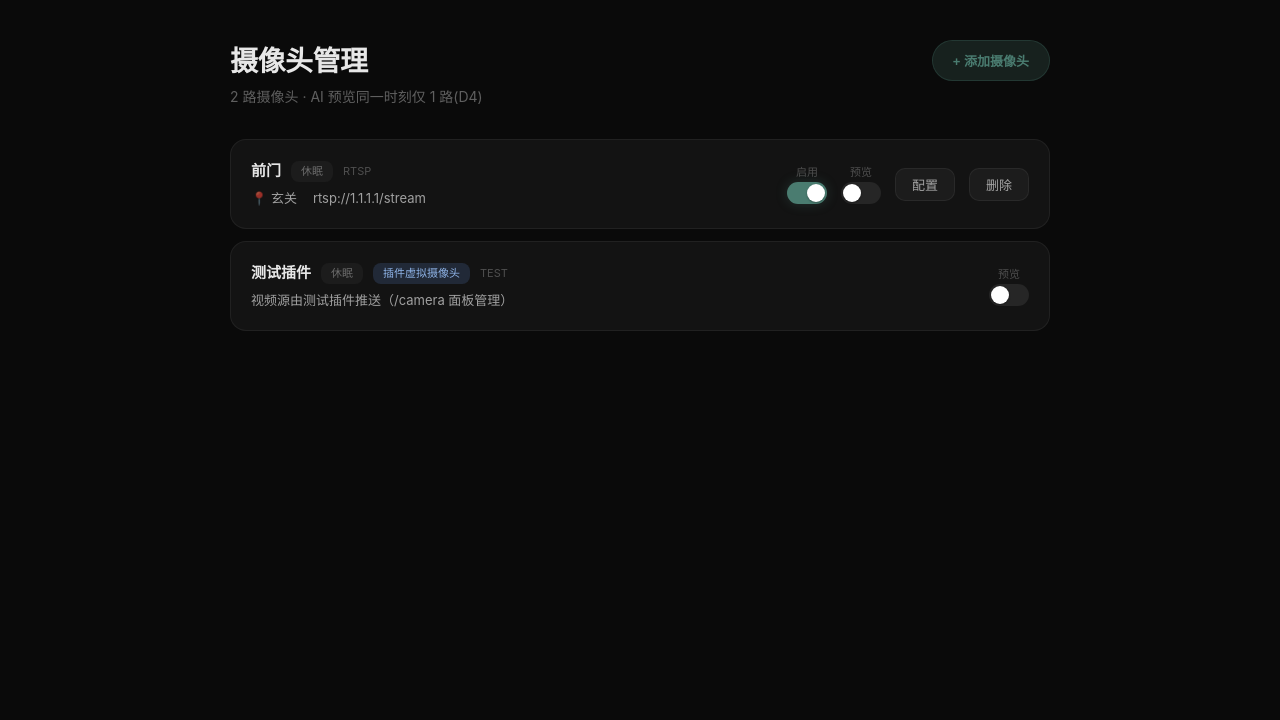
Test case: CameraSettingsView › 点配置进入编辑态并加载该摄像头的关注项
Click the button with class "btn-config": (925, 184) [895, 168, 955, 200]
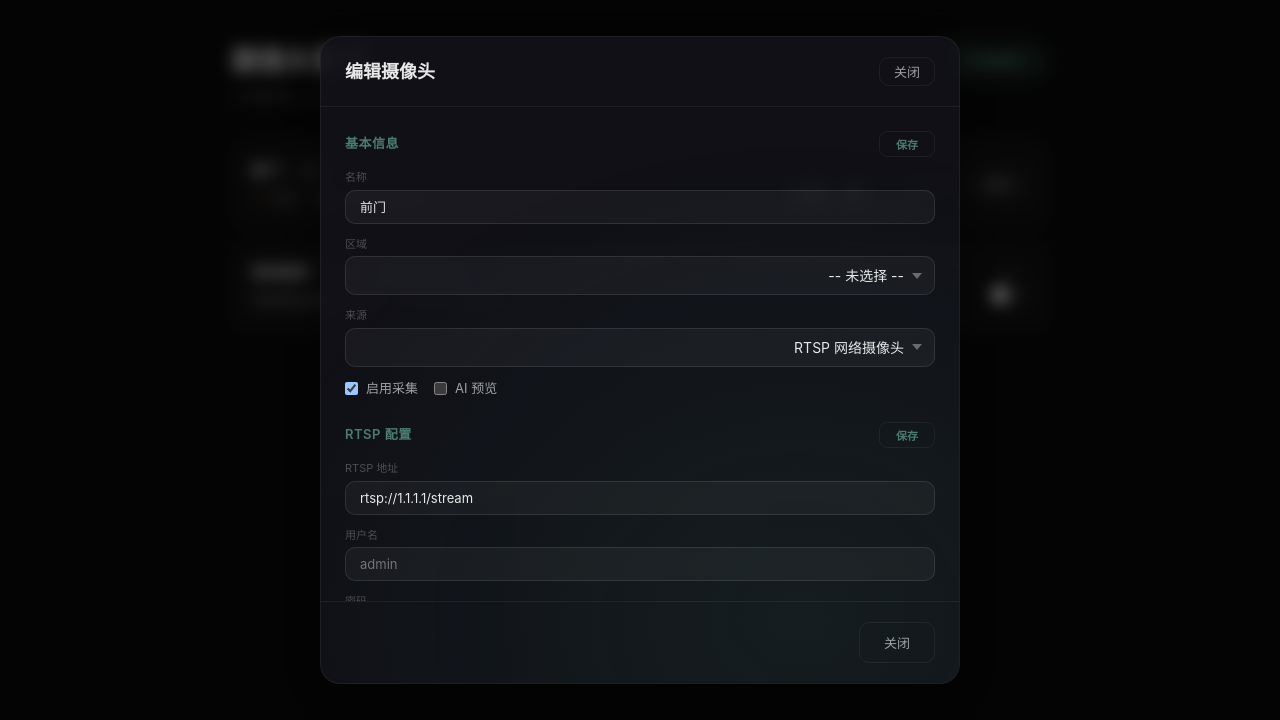
Now the element with class "cam-modal-overlay" is shown
Now the button with class "btn-section-save" in the row of "基本信息" is shown, box [879, 131, 935, 157]
